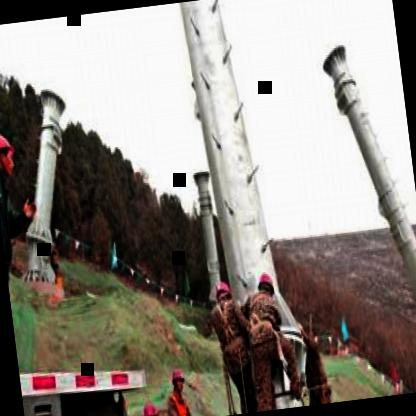helmet: (0, 128, 17, 177), (256, 268, 276, 306), (212, 278, 234, 309), (170, 364, 187, 394), (140, 399, 162, 416)
